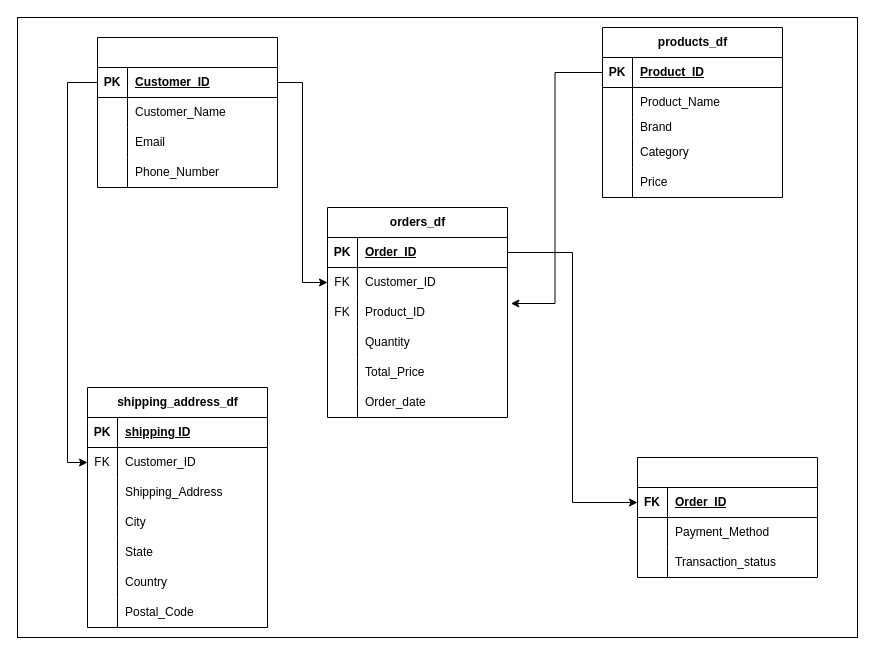
Some shapes in this 875 by 655 pixel diagram are drawn without their labels. The shapes that lost their labels are listed below. From the top down, each one's box as (x1, y1, x2, y2) in pixels, then its label:
(96, 36, 278, 188): customers_df
(636, 456, 818, 578): payment_method_df
